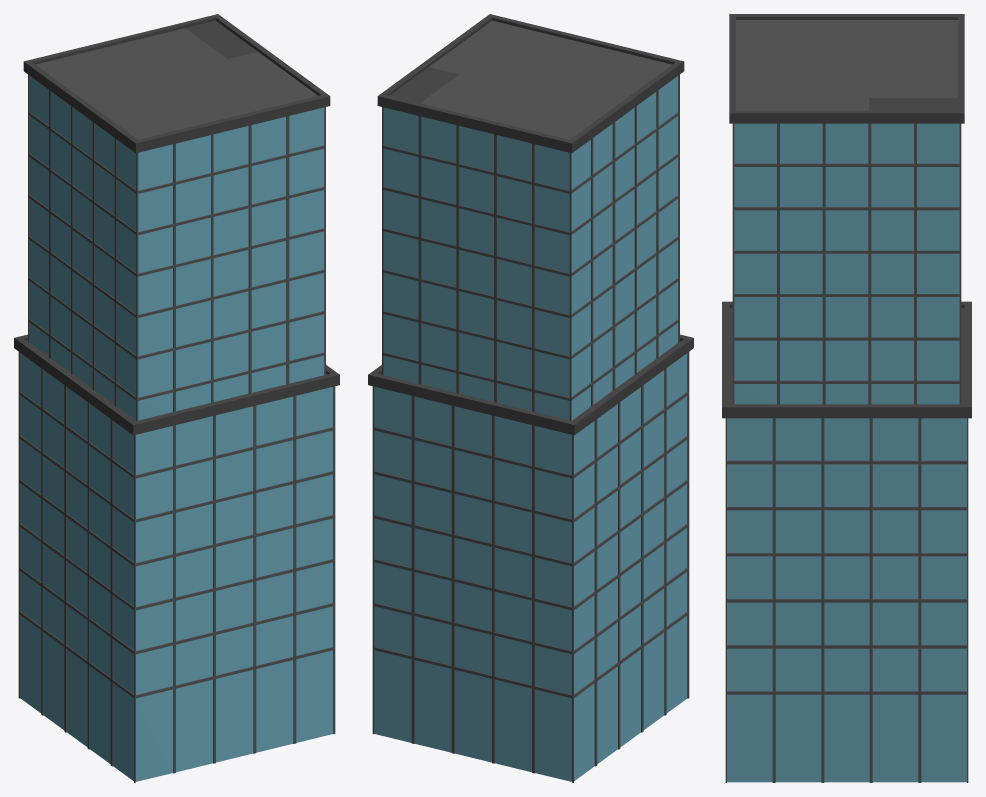
File: Building_04.fbx
The picture shows the model from 3 angles, left to right: view 1: azimuth 30°, elevation 25°; view 2: azimuth 150°, elevation 25°; view 3: azimuth 270°, elevation 25°; orthographic projection. The views are drawn at different scales.
Visible parts, largest first — view 1: Building_04; view 2: Building_04; view 3: Building_04.
Part boxes in pixels (box(x1,y1,x2,y2)): Building_04: box(14, 14, 339, 782); Building_04: box(368, 14, 693, 782); Building_04: box(722, 14, 971, 782).
Size of the model in its own units: 1198 by 3534 by 1198.
